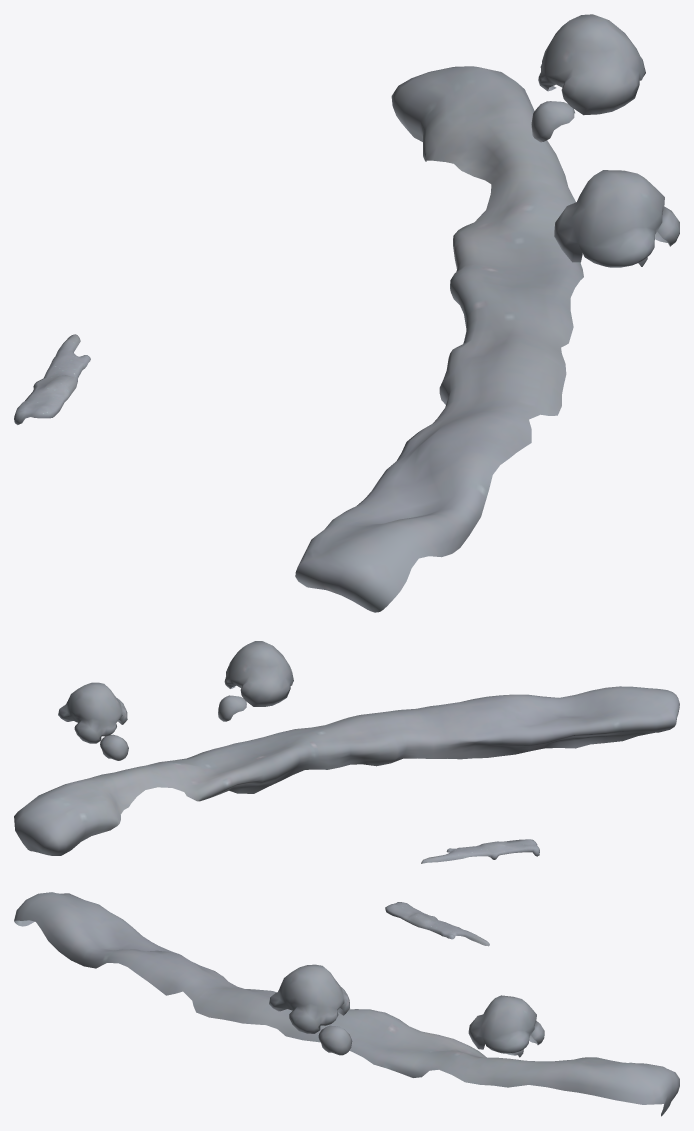
File: pref_sm_beach_plantsnowL03_lv3.fbx
The picture shows the model from 3 angles, top to bottom: view 1: azimuth 30°, elevation 25°; view 2: azimuth 150°, elevation 25°; view 3: azimuth 270°, elevation 25°; orthographic projection. The views are drawn at different scales.
Parts seen in each view (by area): view 1: pref_sm_beach_plantsnowL03_lv3; view 2: pref_sm_beach_plantsnowL03_lv3; view 3: pref_sm_beach_plantsnowL03_lv3.
Boxes of the visible parts, box(x1,y1,x2,y2) form: pref_sm_beach_plantsnowL03_lv3: box(14, 14, 679, 612); pref_sm_beach_plantsnowL03_lv3: box(14, 641, 679, 863); pref_sm_beach_plantsnowL03_lv3: box(14, 892, 679, 1116).
Size of the model in its own units: 18.21 by 4.77 by 22.67.
